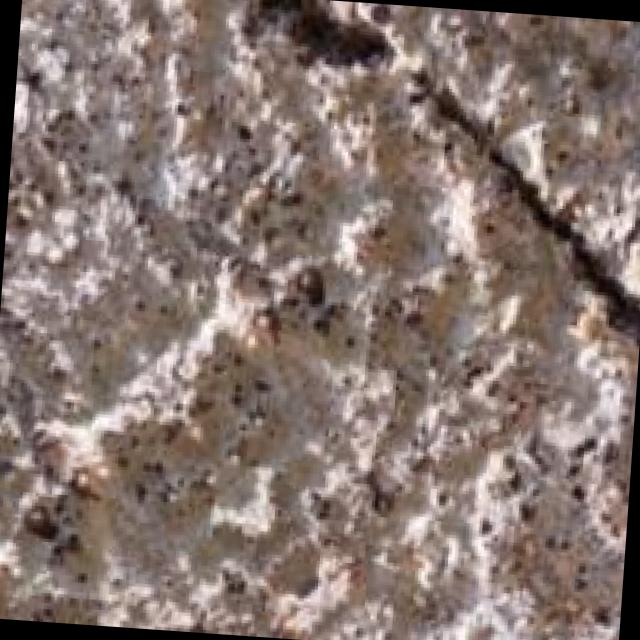crack: (207, 0, 640, 297)
